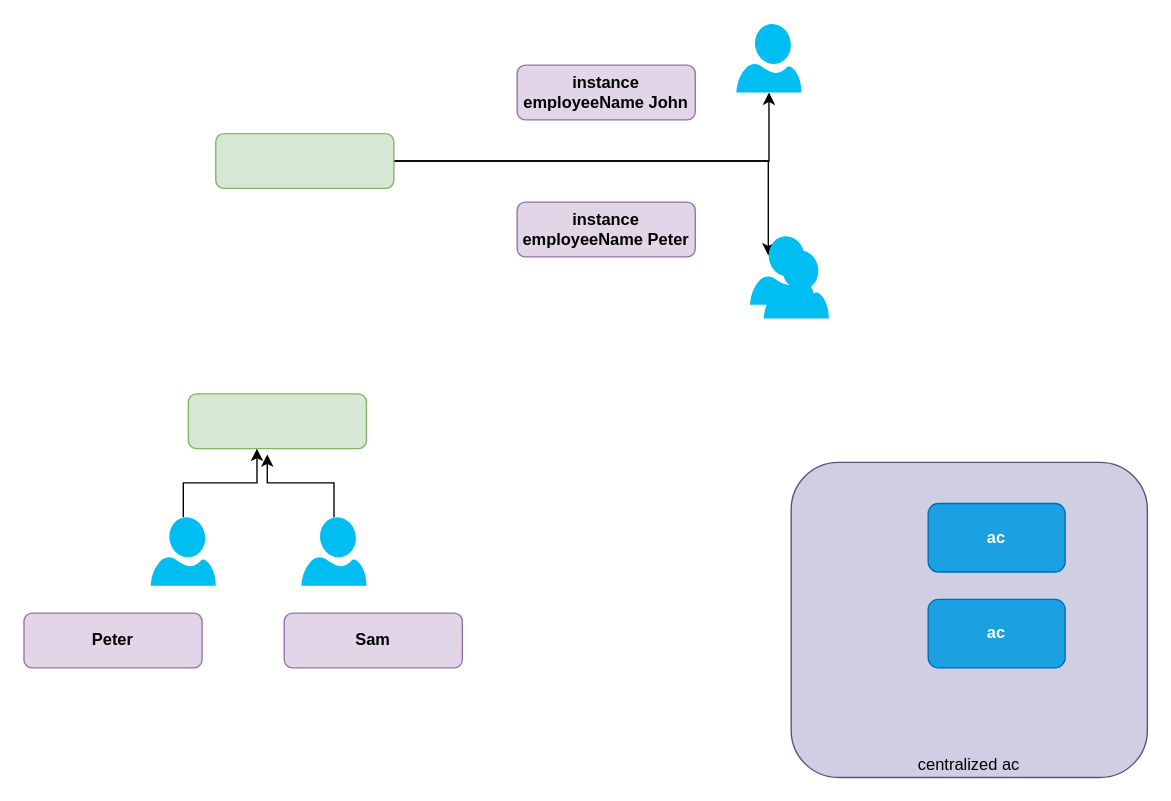
Image size: 1171x801. Some labels were removed from this diagram. Each missing label, with the centre of its shape:
"static companyName TheAmazingCompany" goes at (304,160).
"TheAmazingCompany" goes at (276,421).
